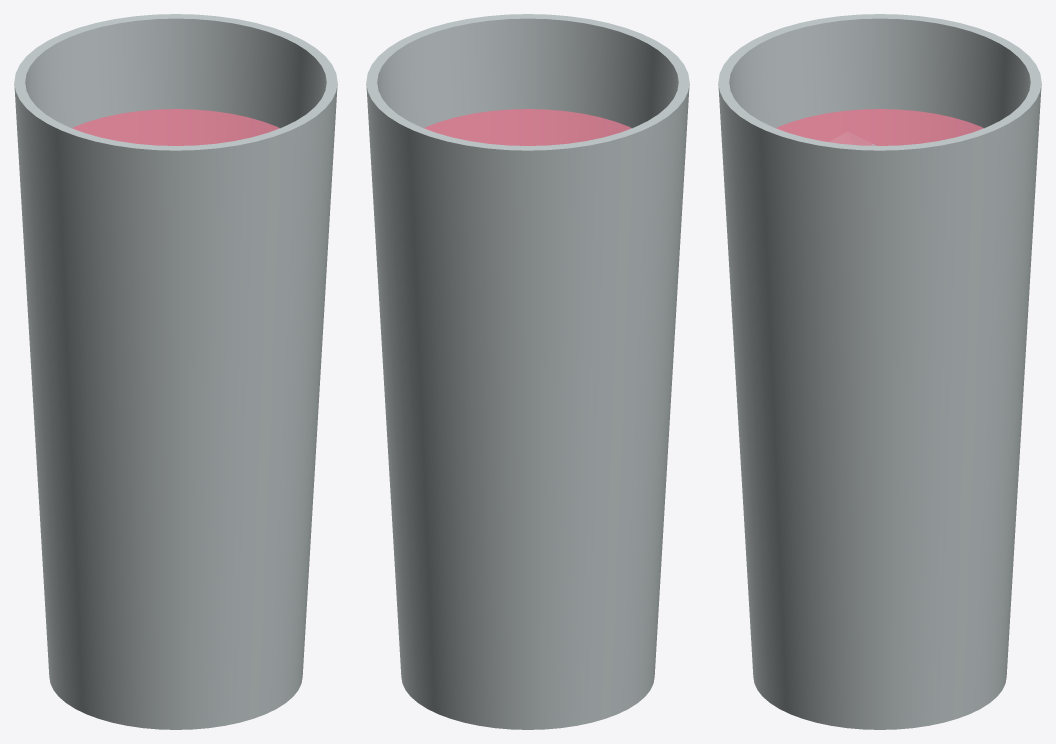
The model's file is copo_suco-rosa.glb.
The picture shows the model from 3 angles, left to right: view 1: azimuth 30°, elevation 25°; view 2: azimuth 150°, elevation 25°; view 3: azimuth 270°, elevation 25°; orthographic projection.
Parts seen in each view (by area): view 1: copo_suco-rosa; view 2: copo_suco-rosa; view 3: copo_suco-rosa.
Part boxes in pixels (box(x1,y1,x2,y2)): copo_suco-rosa: box(14, 14, 337, 729); copo_suco-rosa: box(366, 14, 689, 729); copo_suco-rosa: box(718, 14, 1041, 729).
Bounding box in the file's own units: 0.074 × 0.15 × 0.074.
